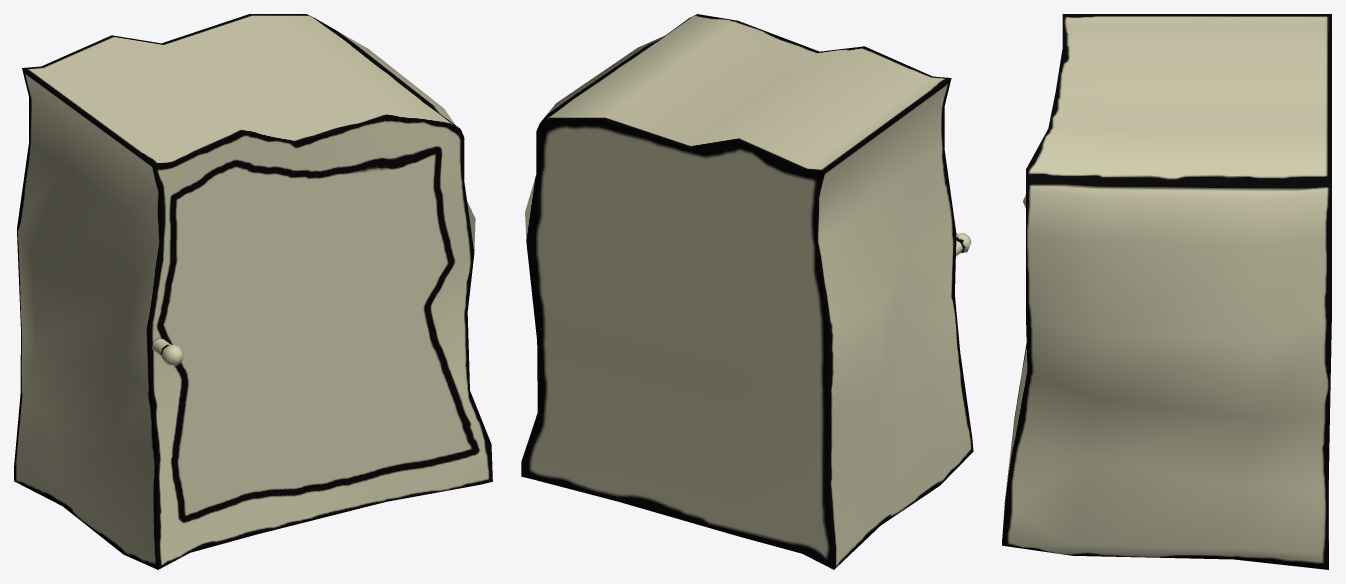
Rendered from fireXXX.fbx.
3 renders of one model, left to right at view 1: azimuth 30°, elevation 25°; view 2: azimuth 150°, elevation 25°; view 3: azimuth 270°, elevation 25°, orthographic. The views are drawn at different scales.
Visible parts, largest first — view 1: FireExtinguisher; view 2: FireExtinguisher; view 3: FireExtinguisher.
Part boxes in pixels (x1,y1,x2,y2): FireExtinguisher: (14,14,492,569); FireExtinguisher: (521,14,973,569); FireExtinguisher: (1002,14,1331,569).
Bounding box in the file's own units: 214 × 234 × 163.
